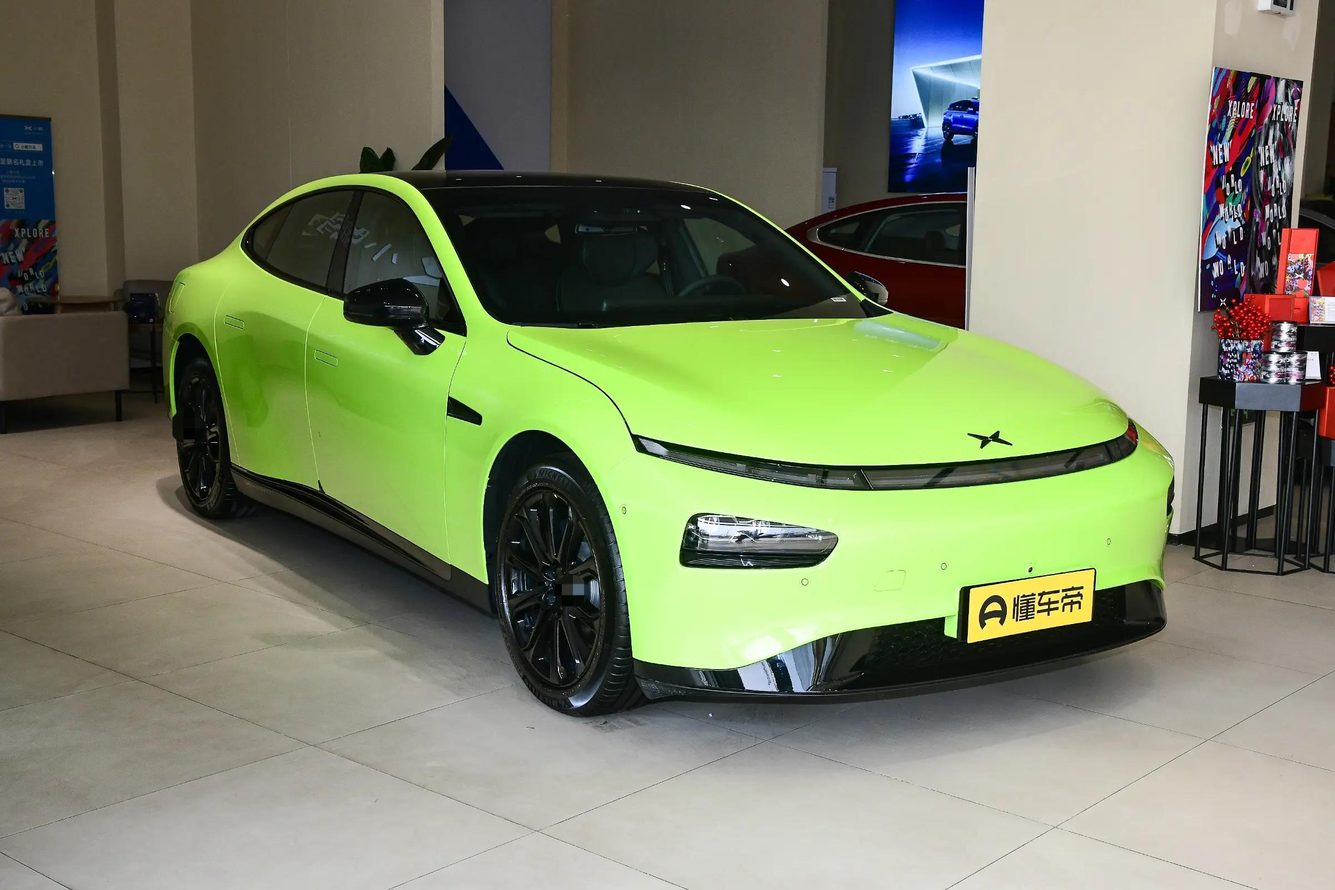XPeng Motors: (967, 430, 1012, 449)
